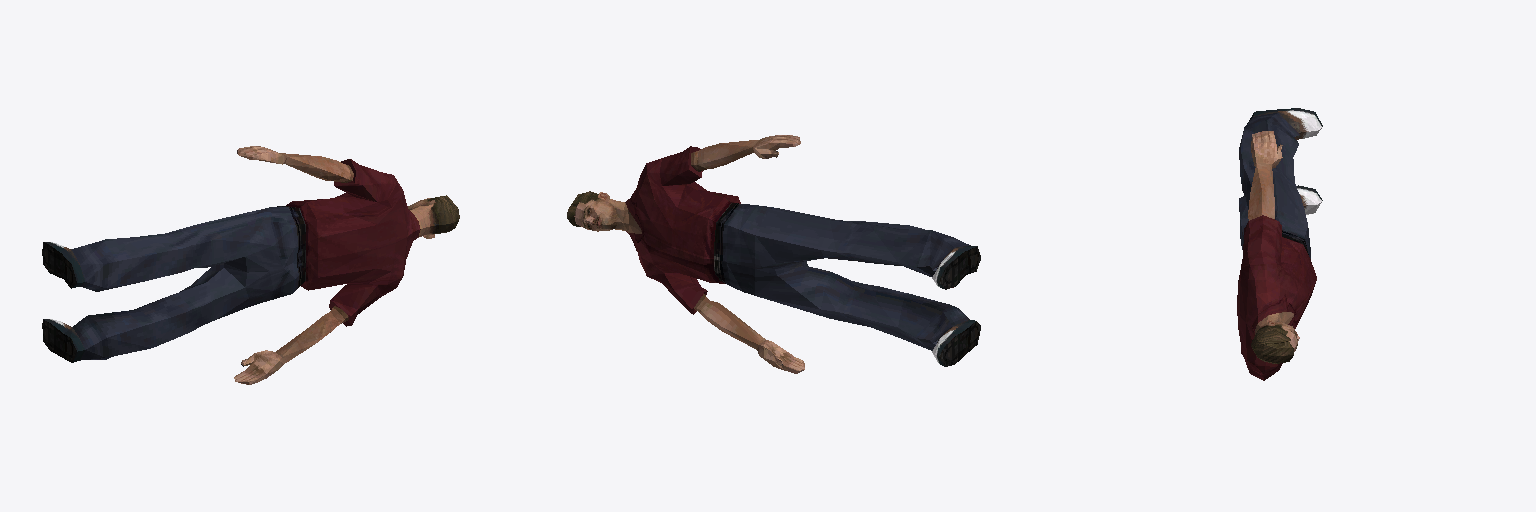
3 views of the same model, side by side, from view 1: azimuth 30°, elevation 25°; view 2: azimuth 150°, elevation 25°; view 3: azimuth 270°, elevation 25° (orthographic).
Visible parts, largest first — view 1: noname_0; view 2: noname_0; view 3: noname_0.
Boxes of the visible parts, box(x1,y1,x2,y2) form: noname_0: box(42, 146, 459, 384); noname_0: box(567, 135, 980, 373); noname_0: box(1237, 108, 1322, 380).
Bounding box in the file's own units: 1.84 × 1.03 × 0.3476.
Materials: 1 (1 with a texture image).